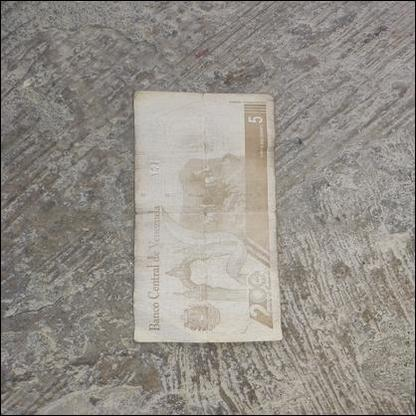five-back-vef: (132, 89, 284, 344)
